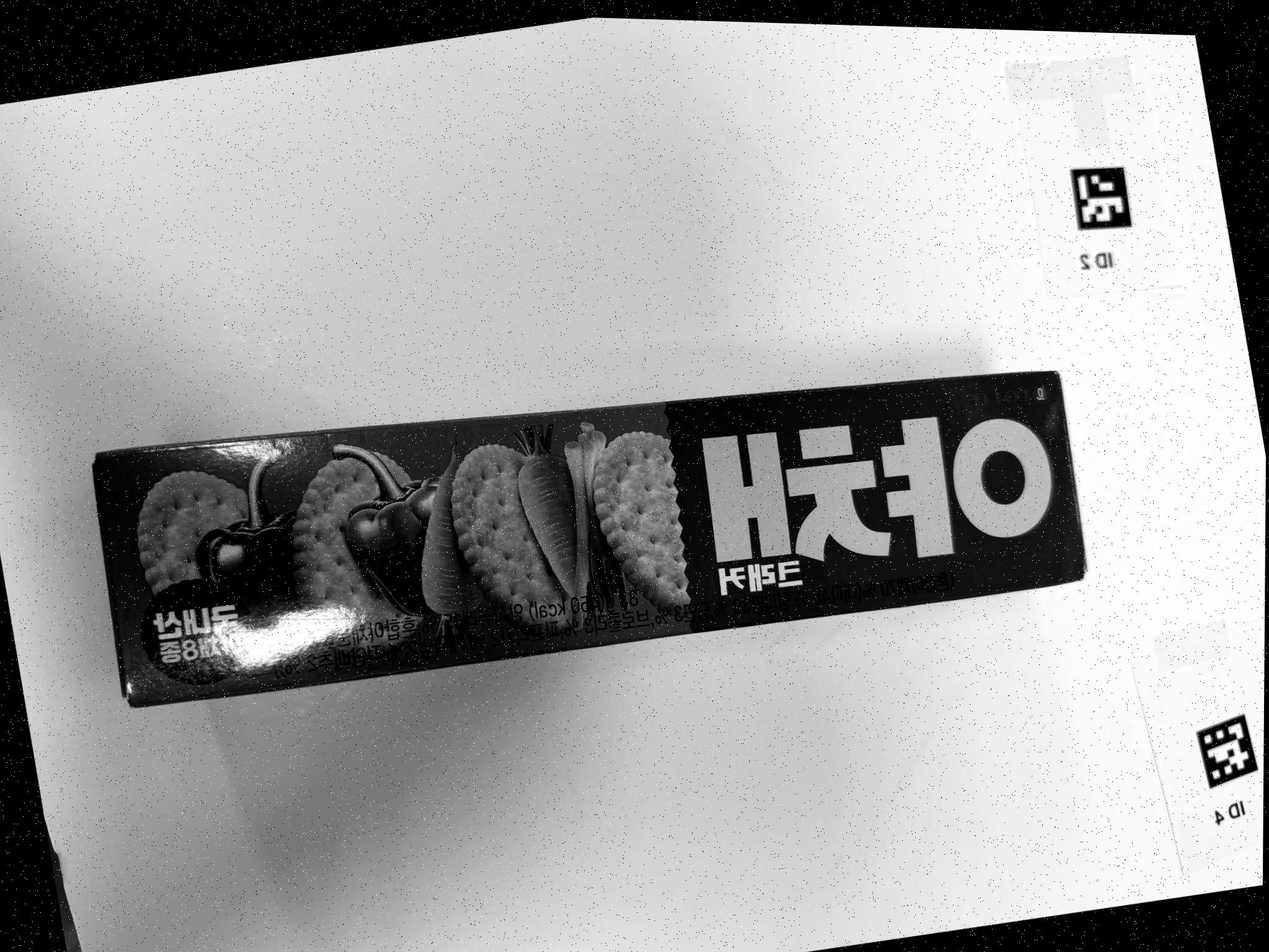cracker_vege: (93, 371, 1086, 706)
